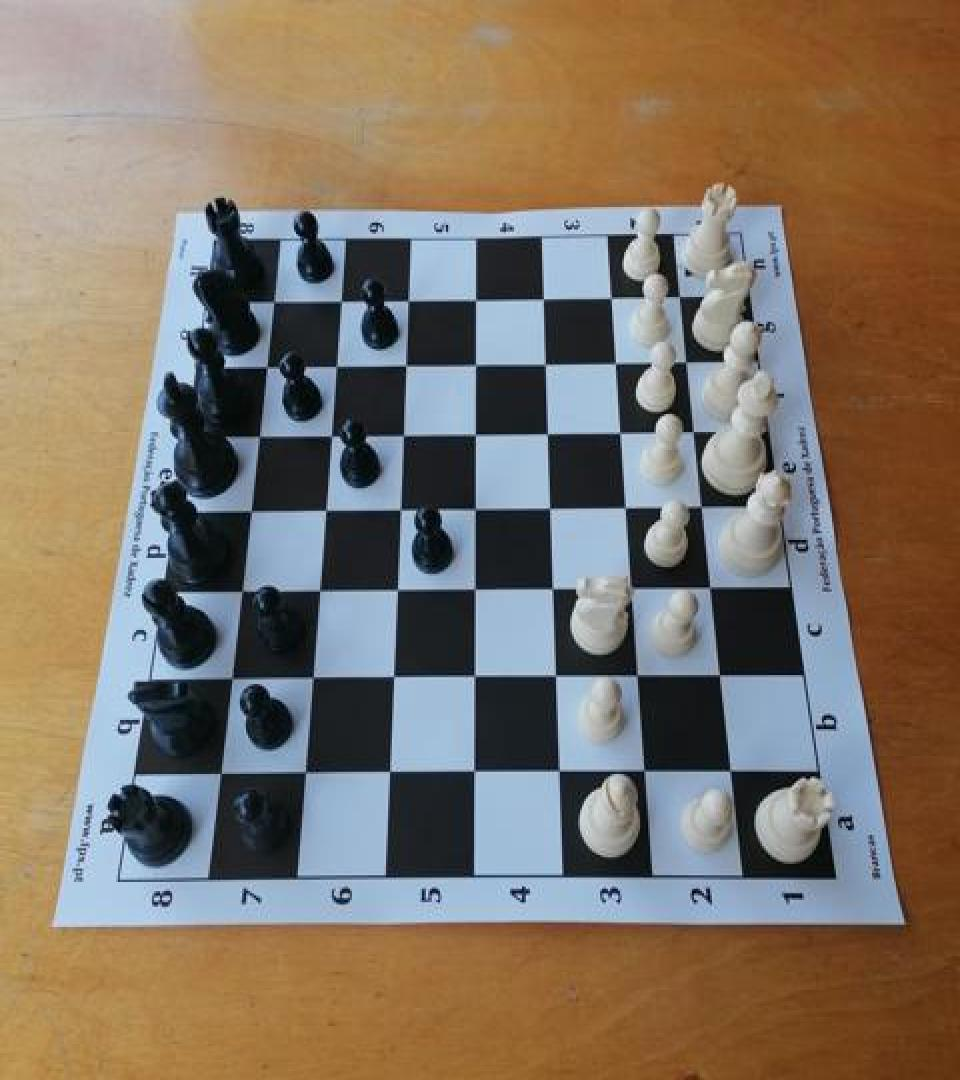xcorner: (204, 759, 234, 793), (289, 759, 319, 793), (374, 759, 404, 793), (459, 758, 489, 792), (544, 758, 574, 792), (630, 758, 660, 792), (716, 758, 746, 792), (458, 662, 488, 696), (540, 662, 570, 696), (623, 662, 653, 696), (706, 662, 736, 696), (224, 577, 254, 611), (302, 576, 332, 610), (380, 576, 410, 610), (458, 575, 488, 609), (537, 574, 567, 608), (616, 574, 646, 608), (696, 572, 726, 606), (232, 495, 262, 529), (307, 495, 337, 529), (382, 494, 412, 528), (458, 494, 488, 528), (610, 492, 640, 526), (687, 492, 717, 526), (240, 420, 270, 454), (312, 420, 342, 454), (385, 418, 415, 452), (458, 417, 488, 451), (531, 417, 561, 451), (604, 416, 634, 450), (678, 415, 708, 449), (248, 350, 278, 384), (317, 348, 347, 382), (387, 348, 417, 382), (458, 348, 488, 382), (528, 346, 558, 380), (599, 345, 629, 379), (670, 344, 700, 378), (254, 284, 284, 318), (390, 282, 420, 316), (458, 281, 488, 315), (526, 280, 556, 314), (594, 280, 624, 314), (663, 279, 693, 313), (214, 664, 244, 697), (295, 664, 325, 697), (377, 664, 407, 697), (534, 493, 564, 526), (322, 284, 352, 317)
